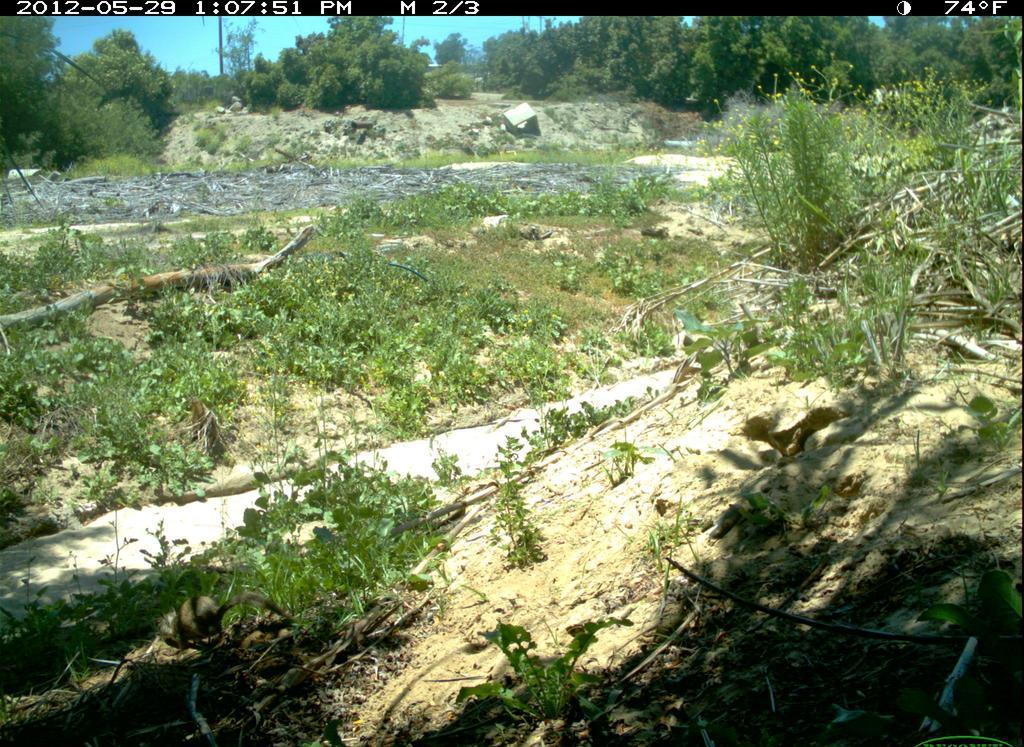squirrel: (146, 583, 297, 658)
